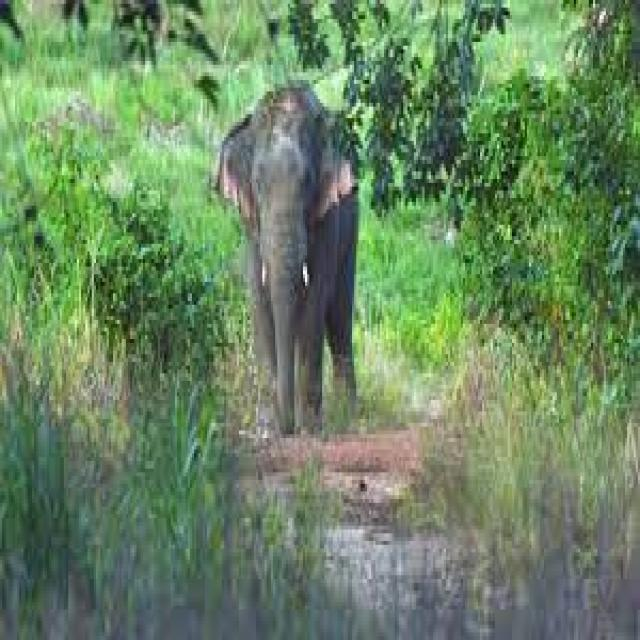Elephant: (208, 72, 402, 468)
